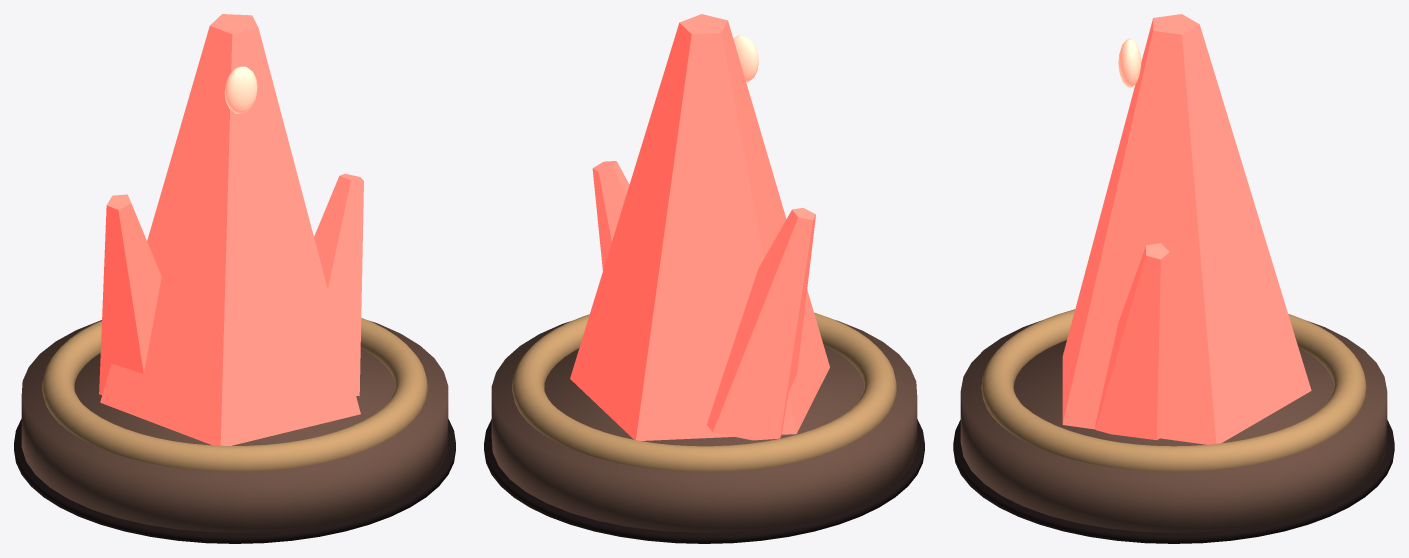
Rendered from trap.glb.
The picture shows the model from 3 angles, left to right: view 1: azimuth 30°, elevation 25°; view 2: azimuth 150°, elevation 25°; view 3: azimuth 270°, elevation 25°; orthographic projection.
Visible parts, largest first — view 1: Trap_Main_Crystal, Trap_Base, Trap_Base_Trim, Trap_Left_Shard, Trap_Right_Shard, Trap_Shadow, Trap_Tip_Highlight; view 2: Trap_Main_Crystal, Trap_Base, Trap_Base_Trim, Trap_Left_Shard, Trap_Shadow, Trap_Right_Shard, Trap_Tip_Highlight; view 3: Trap_Main_Crystal, Trap_Base, Trap_Base_Trim, Trap_Right_Shard, Trap_Shadow, Trap_Tip_Highlight.
Part boxes in pixels (x1,y1,x2,y2): Trap_Main_Crystal: [100, 14, 360, 445]; Trap_Base: [21, 320, 448, 532]; Trap_Base_Trim: [42, 318, 427, 471]; Trap_Left_Shard: [99, 194, 161, 394]; Trap_Right_Shard: [314, 173, 363, 396]; Trap_Shadow: [14, 419, 455, 543]; Trap_Tip_Highlight: [224, 66, 257, 113]; Trap_Main_Crystal: [570, 14, 829, 440]; Trap_Base: [491, 320, 917, 532]; Trap_Base_Trim: [512, 312, 896, 471]; Trap_Left_Shard: [707, 207, 815, 440]; Trap_Shadow: [484, 419, 924, 543]; Trap_Right_Shard: [592, 161, 629, 270]; Trap_Tip_Highlight: [733, 35, 758, 82]; Trap_Main_Crystal: [1062, 14, 1311, 444]; Trap_Base: [960, 321, 1387, 532]; Trap_Base_Trim: [981, 309, 1366, 471]; Trap_Right_Shard: [1095, 243, 1182, 440]; Trap_Shadow: [953, 420, 1394, 543]; Trap_Tip_Highlight: [1118, 38, 1141, 87].
Bounding box in the file's own units: 0.6 × 0.64 × 0.6.
